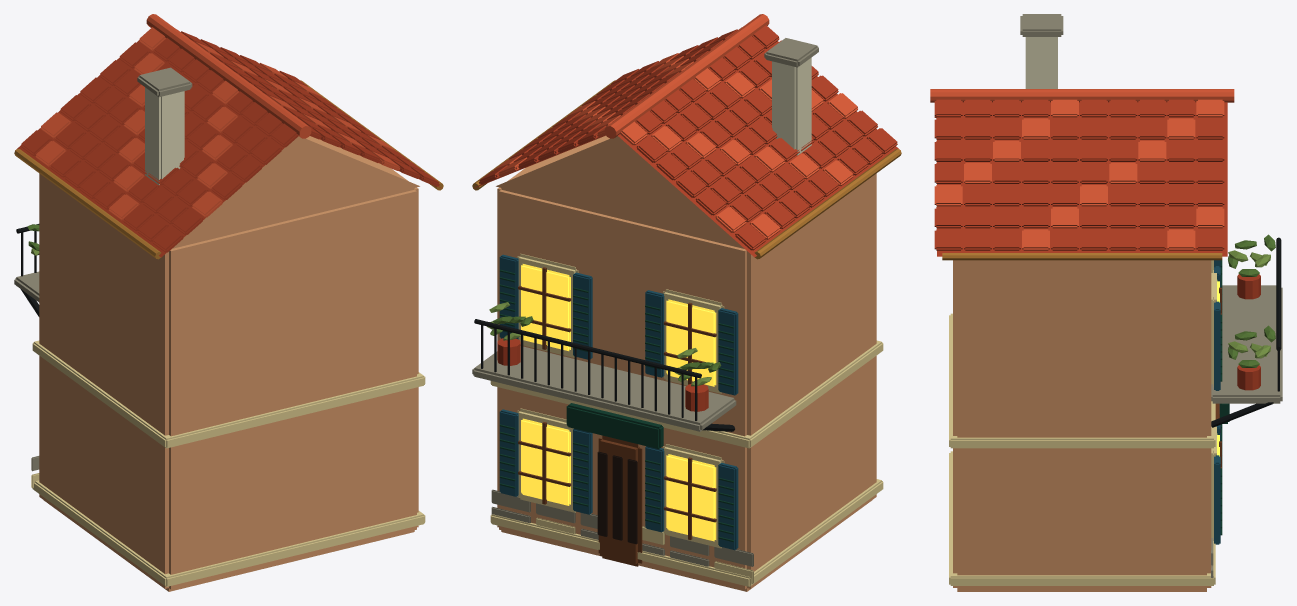
Rendered from townhouse_1.glb.
The picture shows the model from 3 angles, left to right: view 1: azimuth 30°, elevation 25°; view 2: azimuth 150°, elevation 25°; view 3: azimuth 270°, elevation 25°; orthographic projection.
Visible parts, largest first — view 1: Seaside townhouse.001Mesh; view 2: Seaside townhouse.001Mesh; view 3: Seaside townhouse.001Mesh.
Boxes of the visible parts, <box> form: Seaside townhouse.001Mesh: <box>14,14,443,591</box>; Seaside townhouse.001Mesh: <box>472,14,901,591</box>; Seaside townhouse.001Mesh: <box>930,14,1282,591</box>.
Size of the model in its own units: 6.15 by 9.63 by 6.55.
